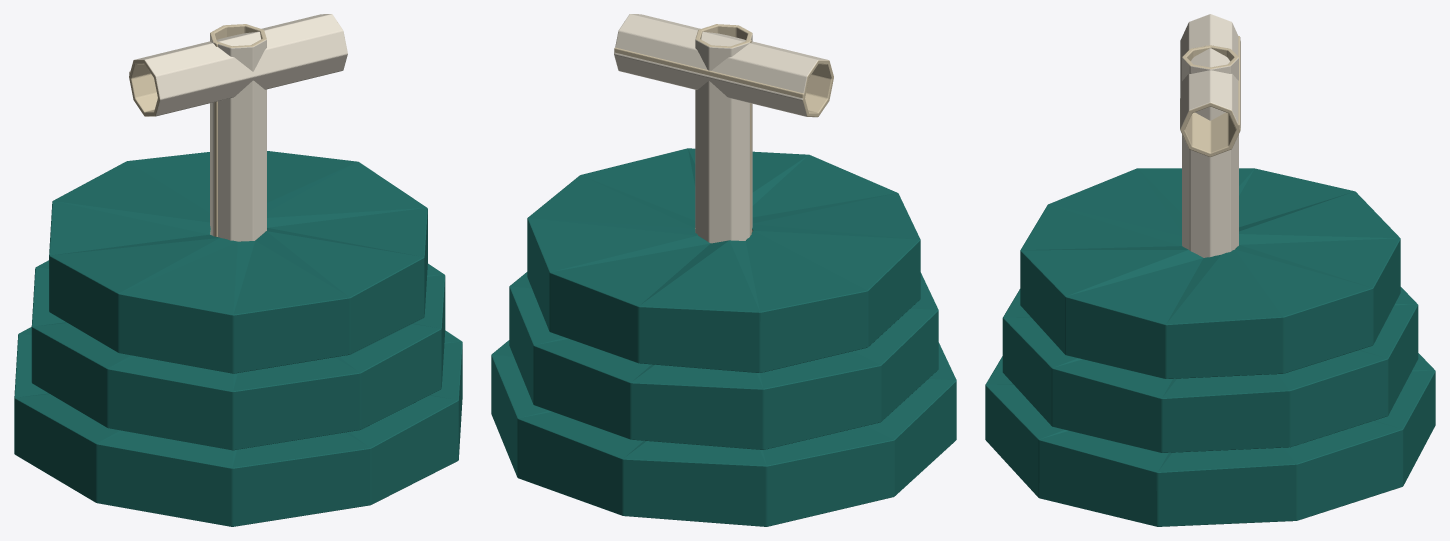
Rendered from achievement-template-ten.glb.
3 renders of one model, left to right at view 1: azimuth 30°, elevation 25°; view 2: azimuth 150°, elevation 25°; view 3: azimuth 270°, elevation 25°, orthographic. The views are drawn at different scales.
Parts seen in each view (by area): view 1: achievement-template-ten; view 2: achievement-template-ten; view 3: achievement-template-ten.
Part boxes in pixels (<box>): achievement-template-ten: <box>14,14,462,526</box>; achievement-template-ten: <box>491,14,956,526</box>; achievement-template-ten: <box>985,14,1435,526</box>.
Bounding box in the file's own units: 1.25 × 1.2 × 1.28.
